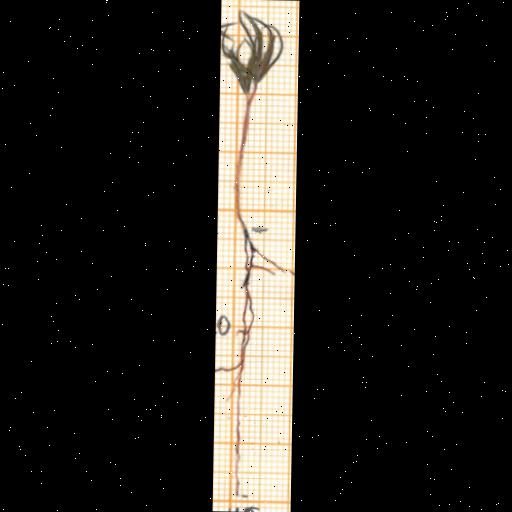flowerPinus: (221, 11, 283, 94)
rootPinus: (223, 231, 286, 495)
stemPinus: (234, 90, 256, 228)
